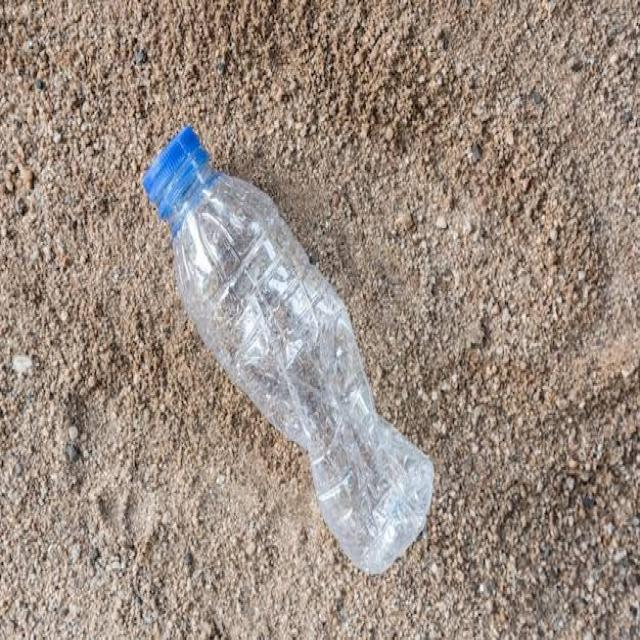plastic bottle: (120, 109, 460, 579)
